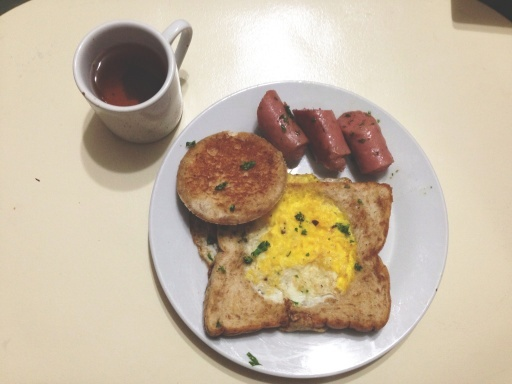background: (140, 53, 315, 203), (62, 25, 133, 63)
